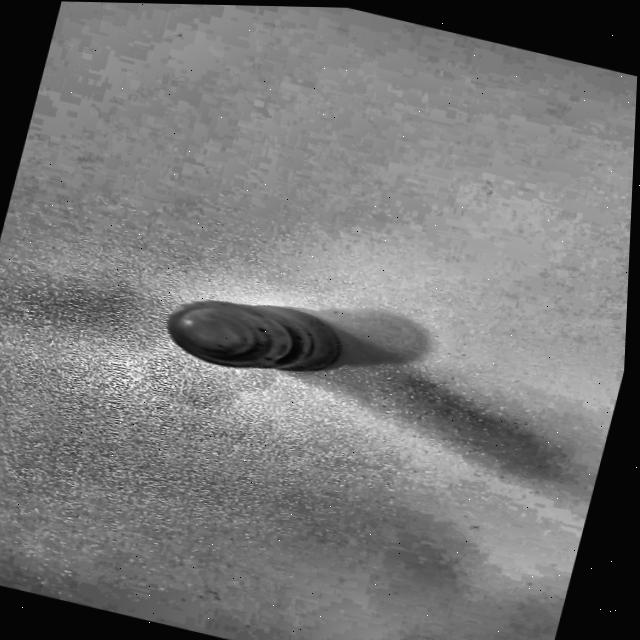white-queen: (122, 251, 365, 403)
